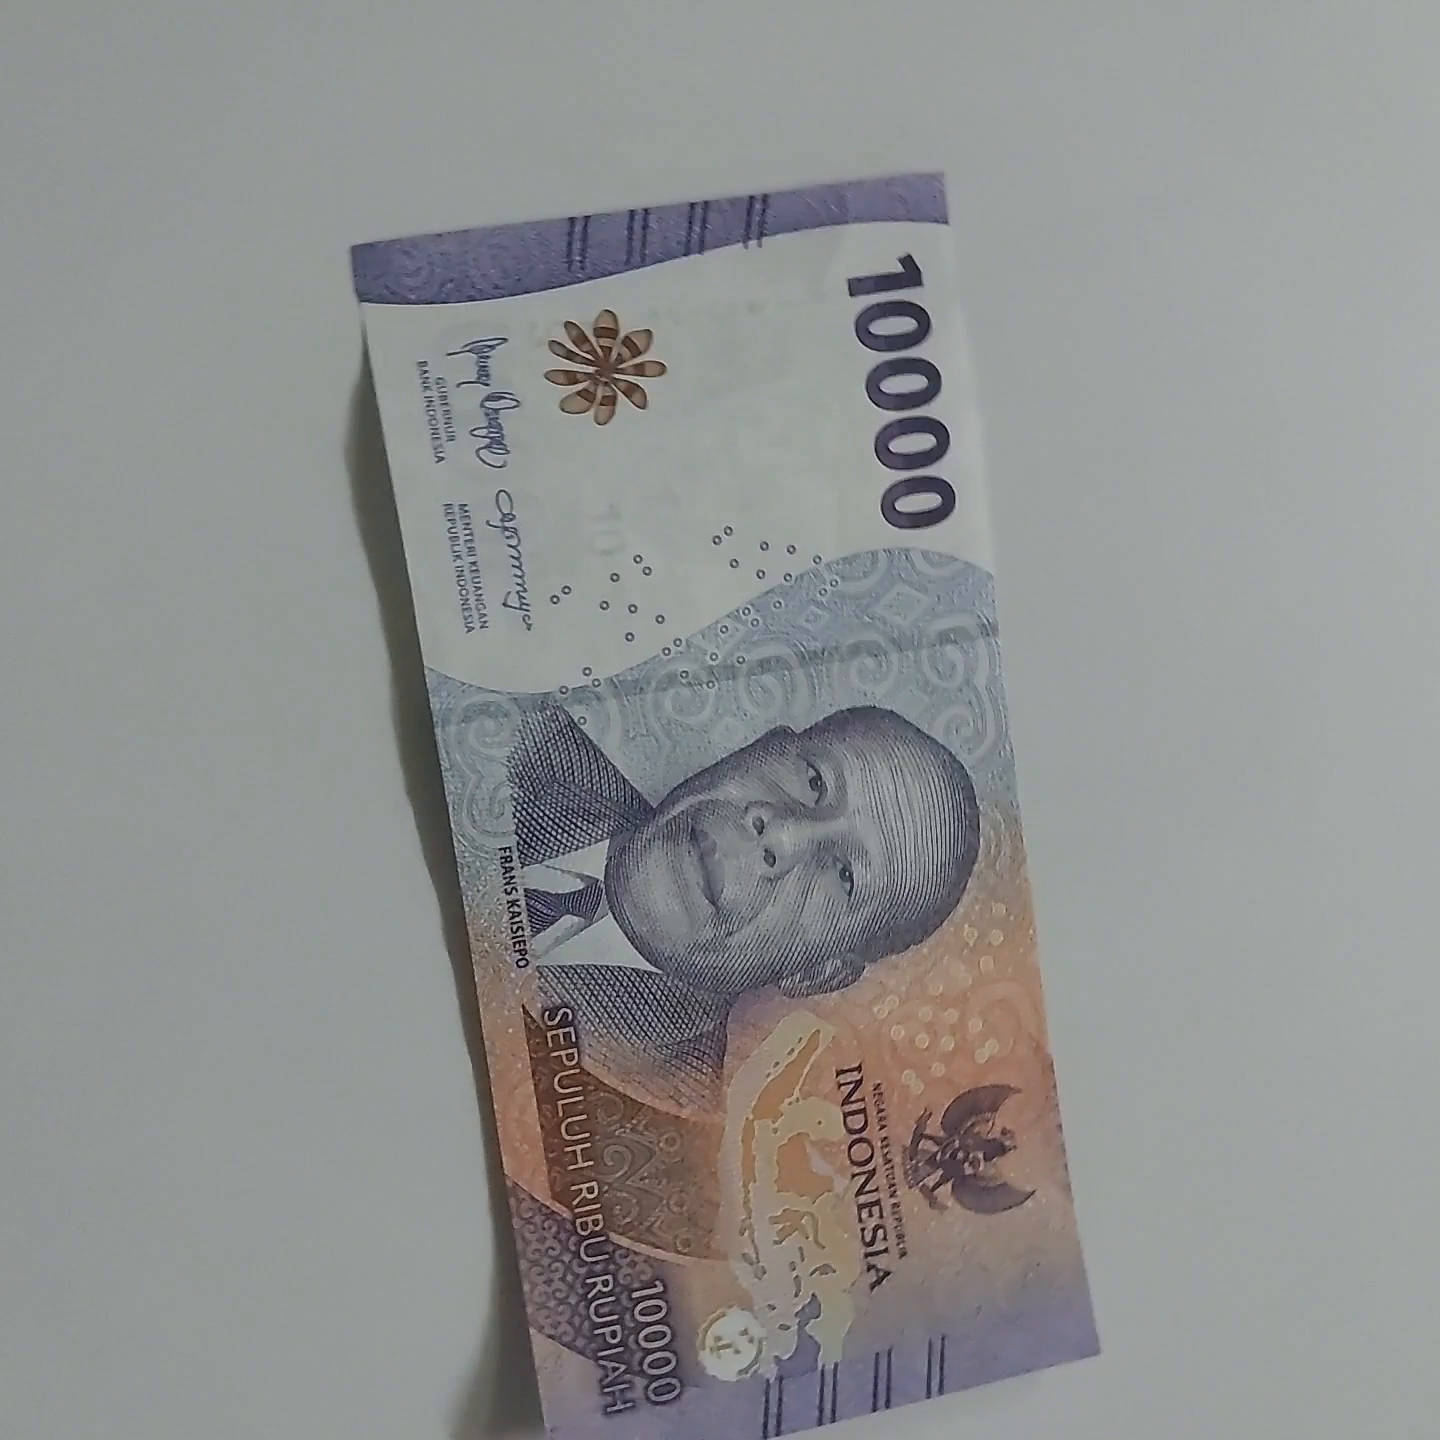10k: (326, 216, 1104, 1435)
